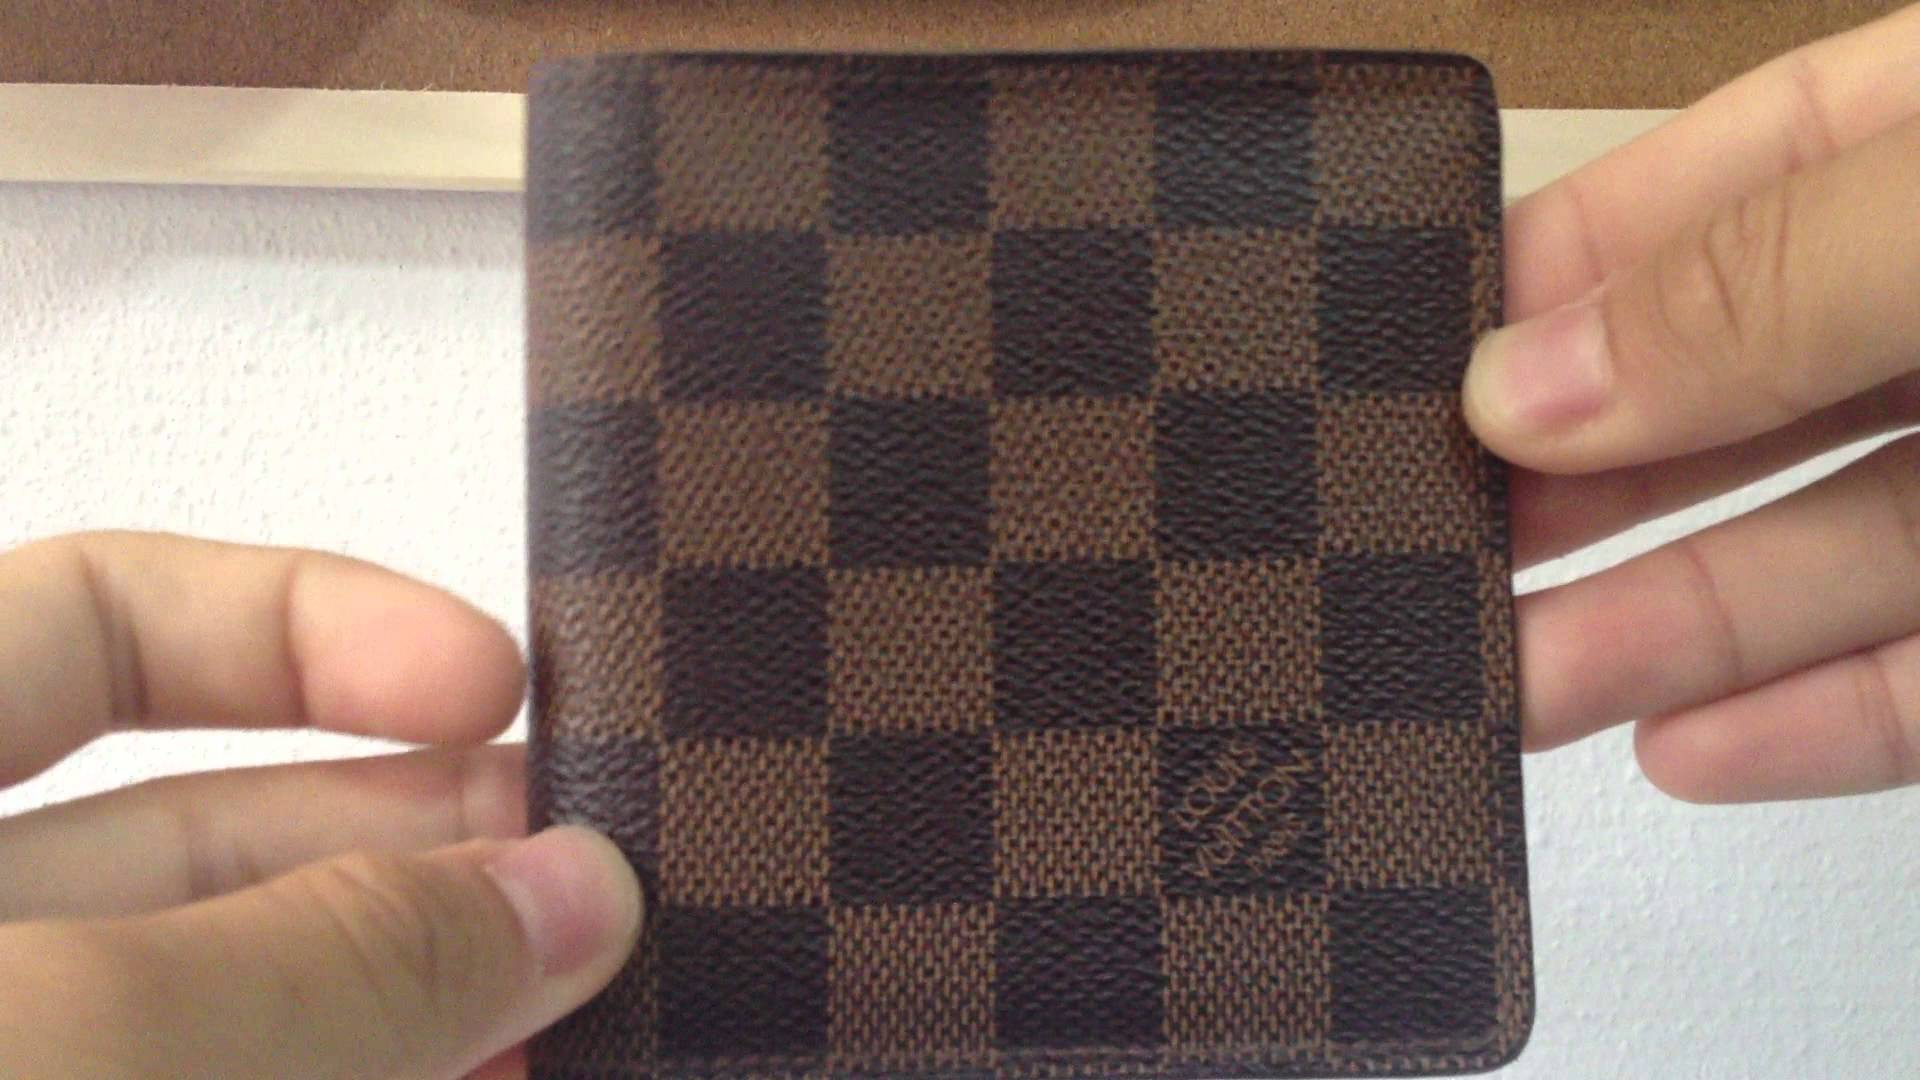monedero: (510, 38, 1543, 1080)
